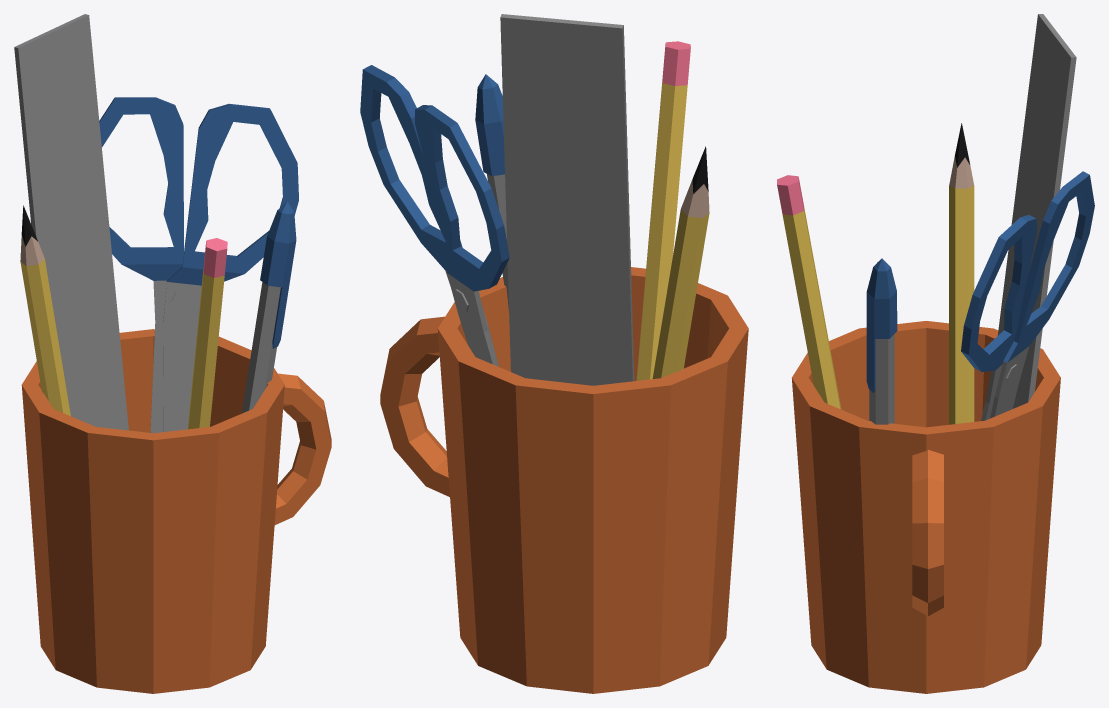
File: Stationary Pot.fbx
The picture shows the model from 3 angles, left to right: view 1: azimuth 30°, elevation 25°; view 2: azimuth 150°, elevation 25°; view 3: azimuth 270°, elevation 25°; orthographic projection. The views are drawn at different scales.
Visible parts, largest first — view 1: Stationary Pot; view 2: Stationary Pot; view 3: Stationary Pot.
Boxes of the visible parts, x1,y1,x2,y2 form: Stationary Pot: (14,14,331,693); Stationary Pot: (360,14,748,693); Stationary Pot: (777,14,1094,693).
Bounding box in the file's own units: 21.15 × 39.82 × 19.41.
